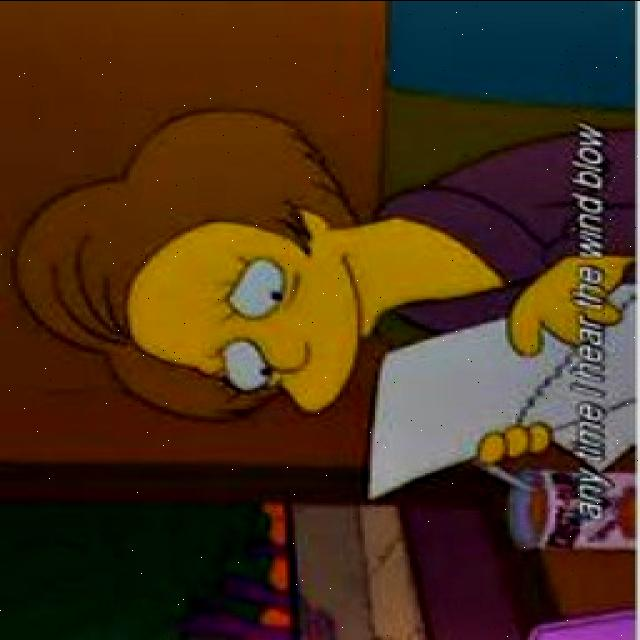Edna Krappel: (10, 105, 435, 431)
